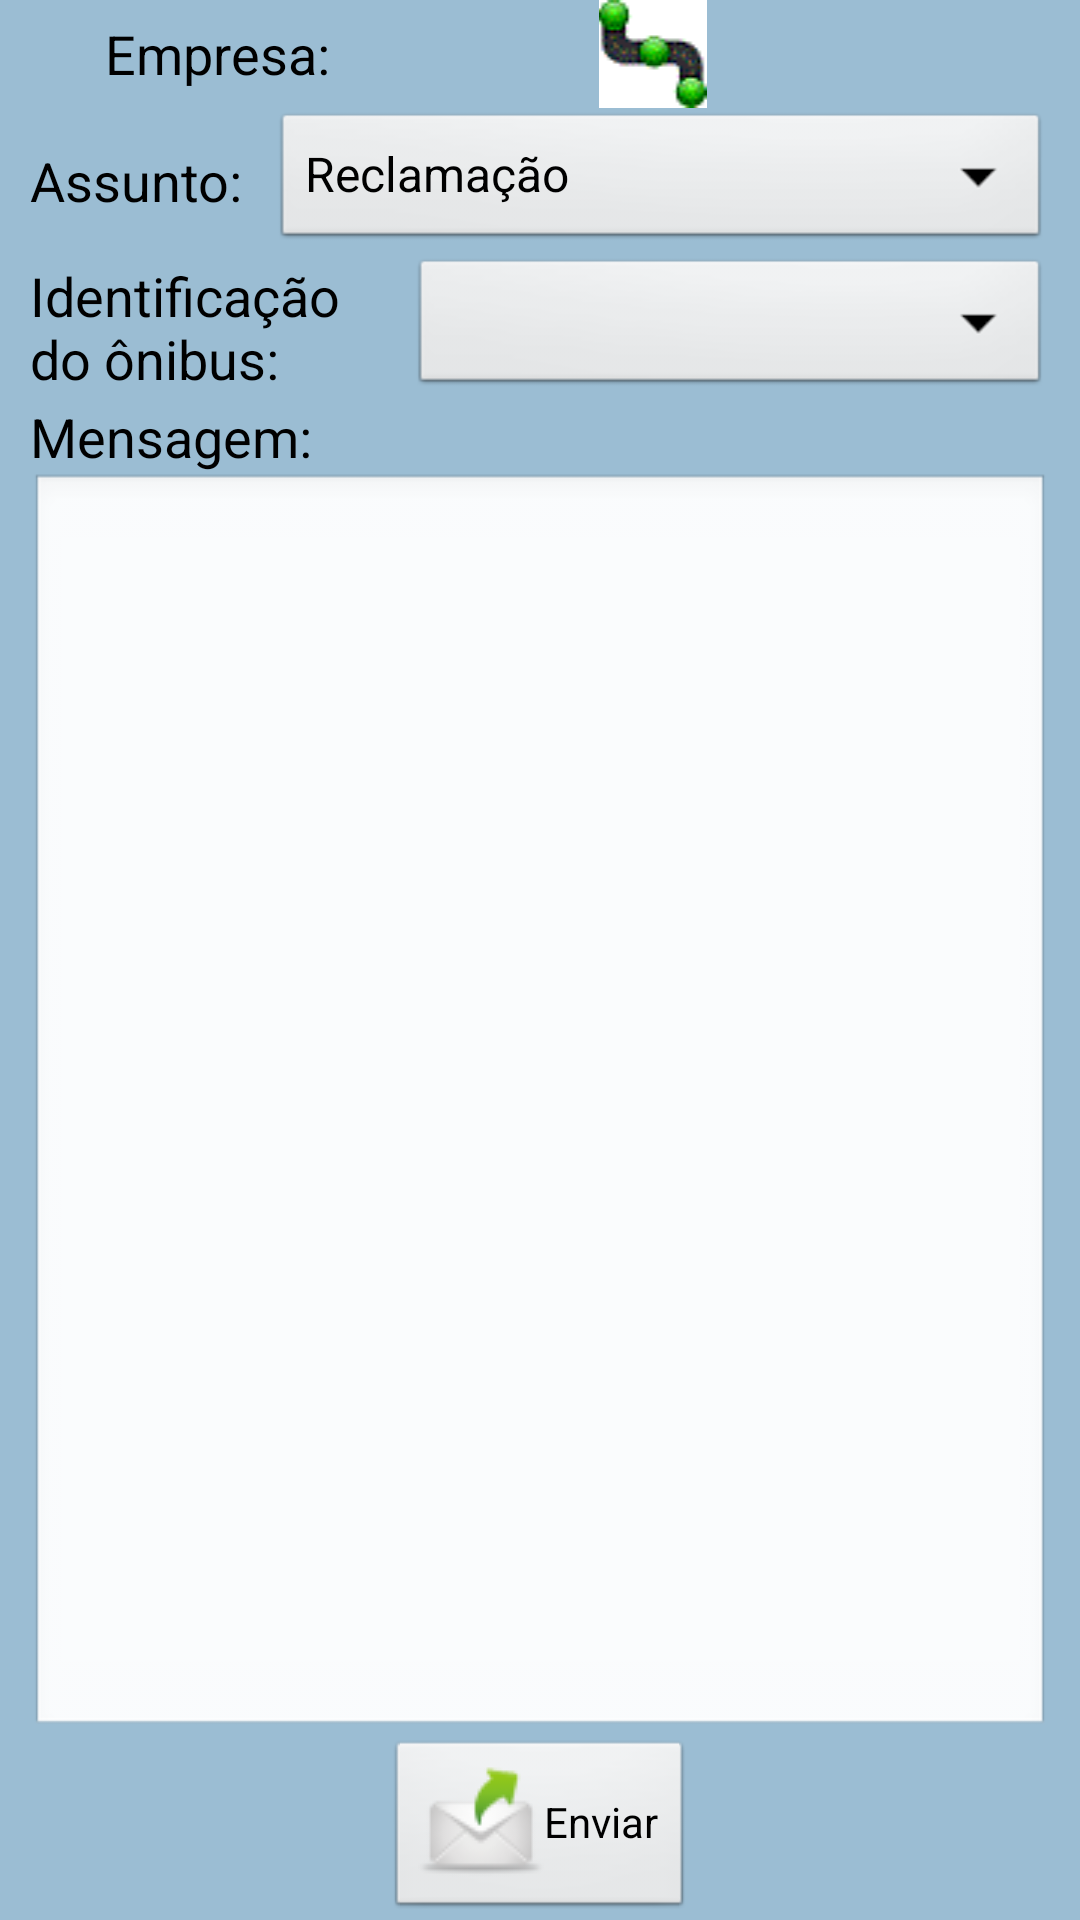

Screen size 1080px x 1920px. Icon name, then its center in pixels as [x,y]:
route: [653,54]
